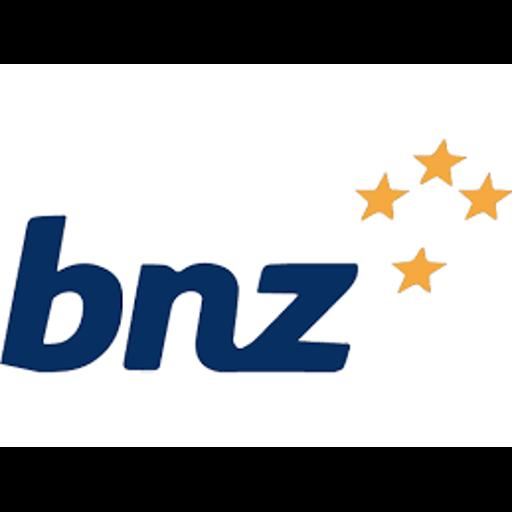Bank of New Zealand: (0, 64, 512, 447)
